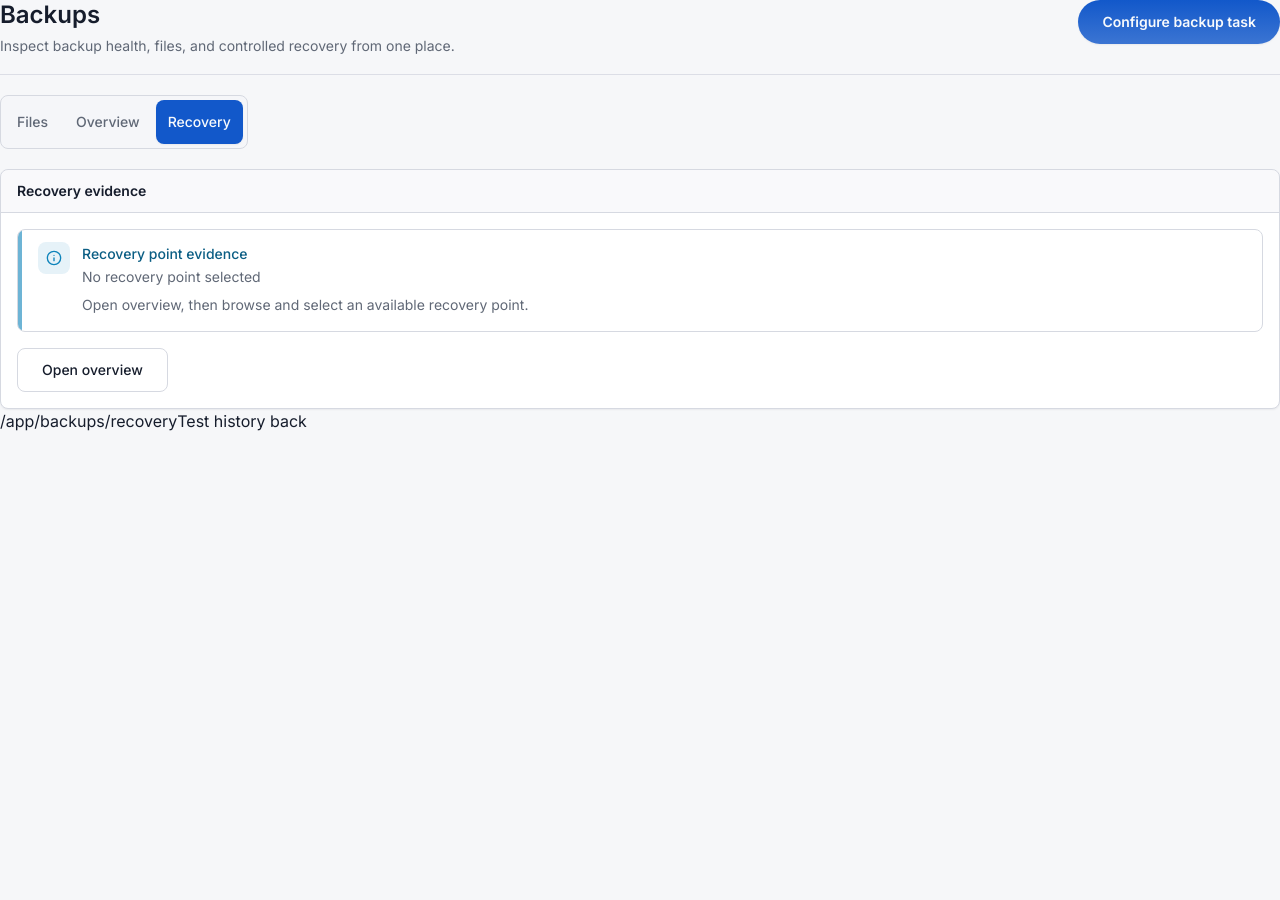
Scenario: BackupsPage › opens a queryless overview from a bare recovery route without probing or writing
Expected: the text "No recovery point selected" is shown, [82,268,261,284]
Click the link "Open overview" at {"x": 92, "y": 370}, box [17,348,168,392]
(page scrolled)
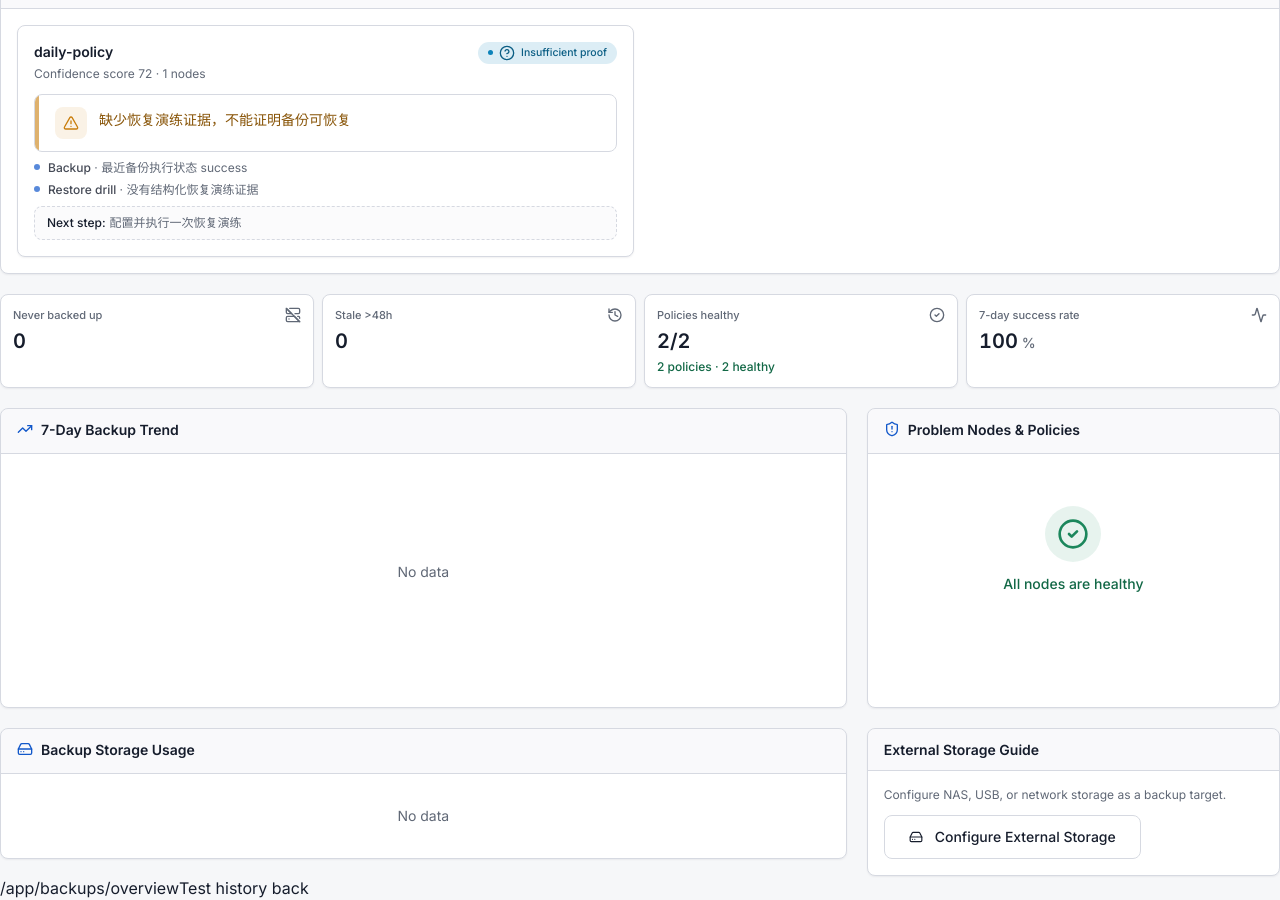
Result: the text with test id "backups-location" reads "/app/backups/overview" at [0,878,179,898]
